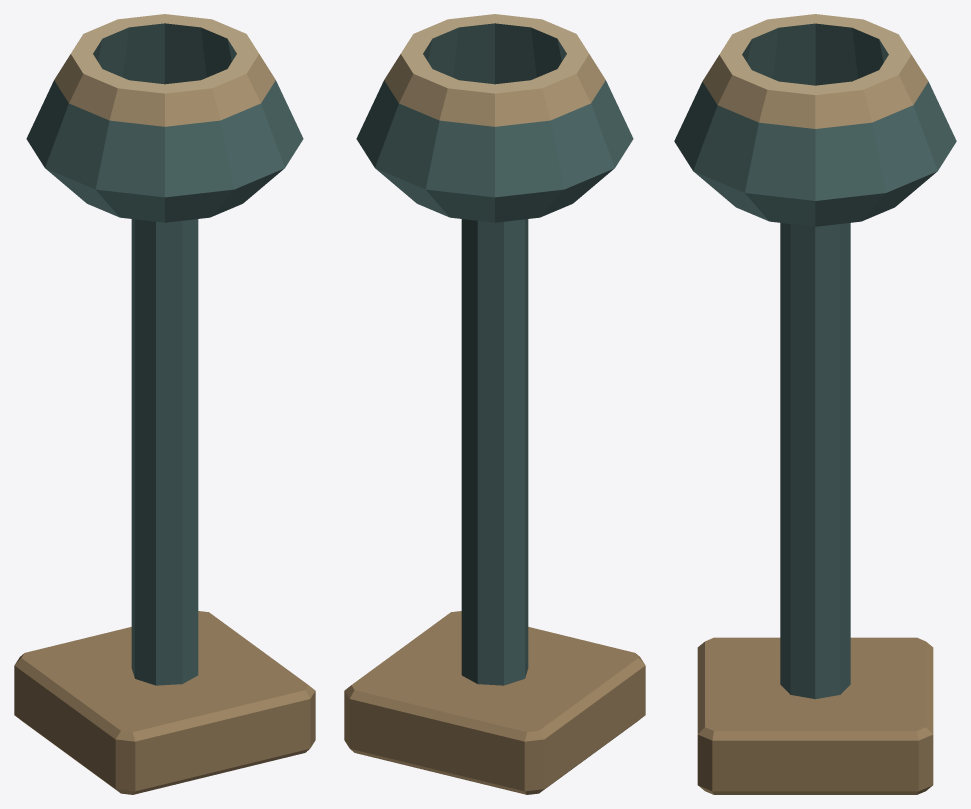
Rendered from torch-stand.glb.
The picture shows the model from 3 angles, left to right: view 1: azimuth 30°, elevation 25°; view 2: azimuth 150°, elevation 25°; view 3: azimuth 270°, elevation 25°; orthographic projection.
Parts seen in each view (by area): view 1: torch-stand__body; view 2: torch-stand__body; view 3: torch-stand__body.
Part boxes in pixels (bbox=[...]): torch-stand__body: bbox=[14, 14, 315, 794]; torch-stand__body: bbox=[344, 14, 645, 794]; torch-stand__body: bbox=[674, 14, 956, 794].
Bounding box in the file's own units: 0.48 × 1.3 × 0.48.
